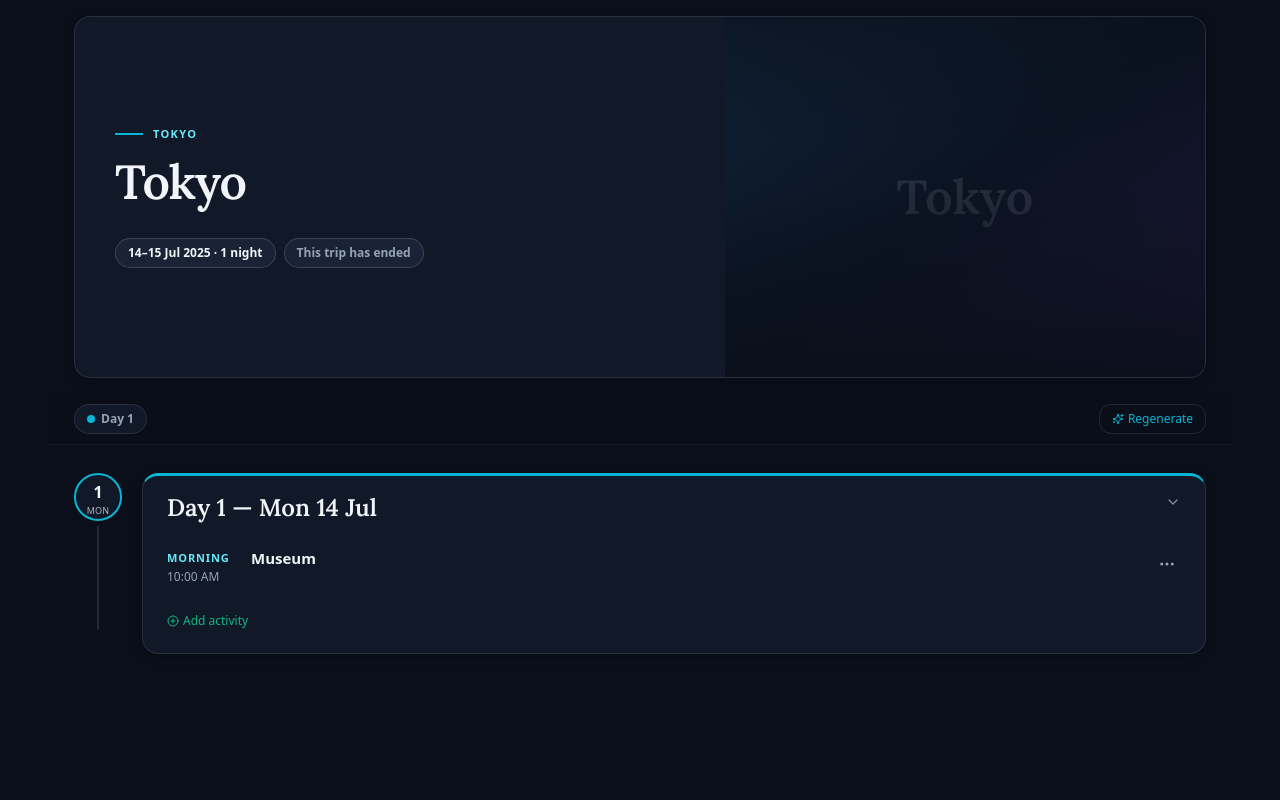
inserting between two cards › offers slots first, with an exact time behind an extra tap
This screenshot has width=1280, height=800.
Step 1. Click the button "Add activity" → {"x": 208, "y": 620}, box [167,604,248,636]
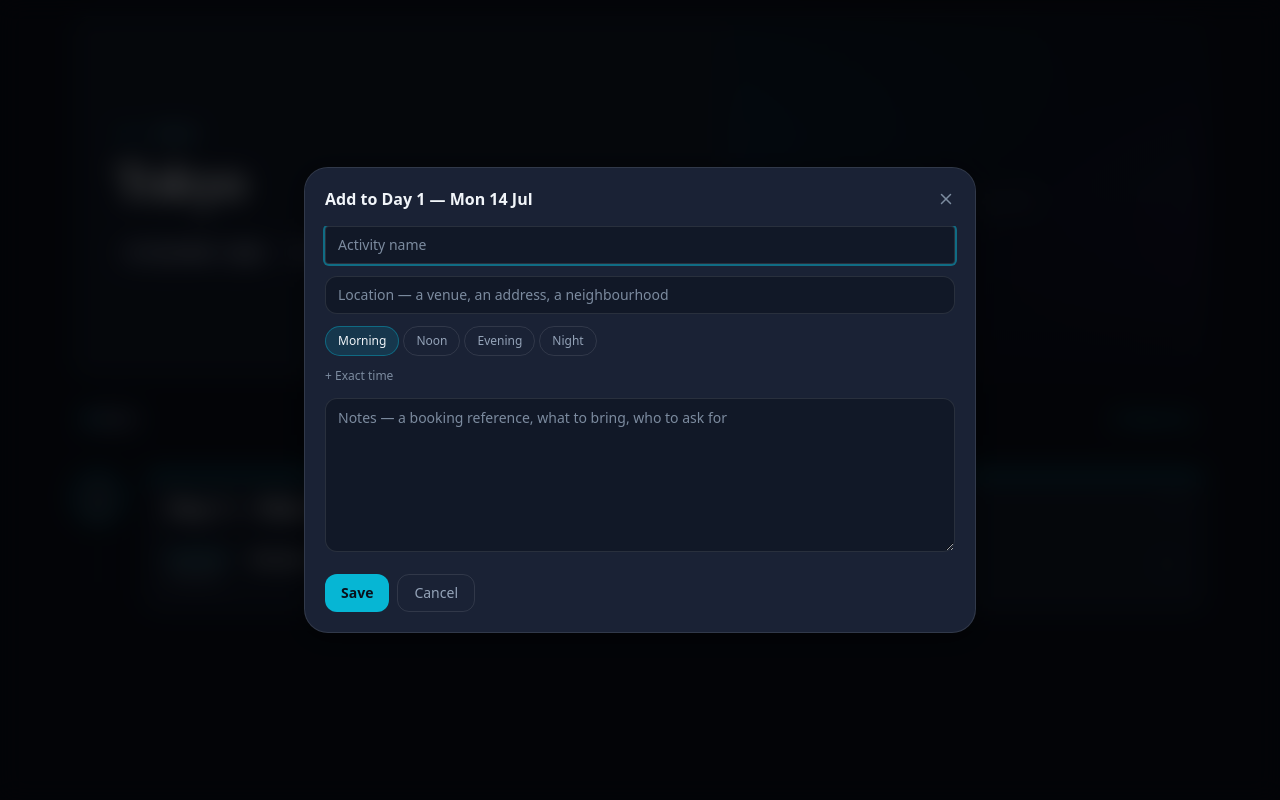
Step 2. Click the button with test id "add-exact-time" → {"x": 359, "y": 376}, box [325,368,393,384]
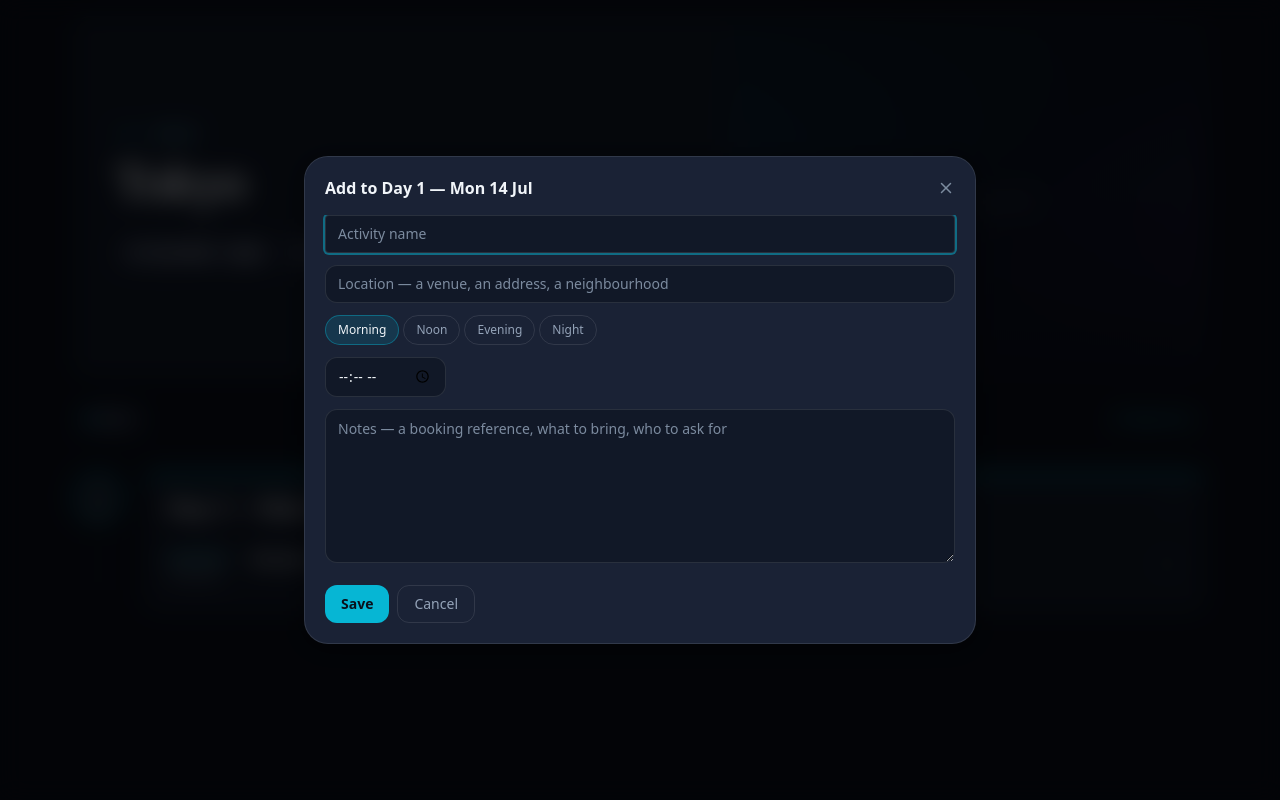
Now the time field named "Exact time" is shown, box [325,357,446,397]
